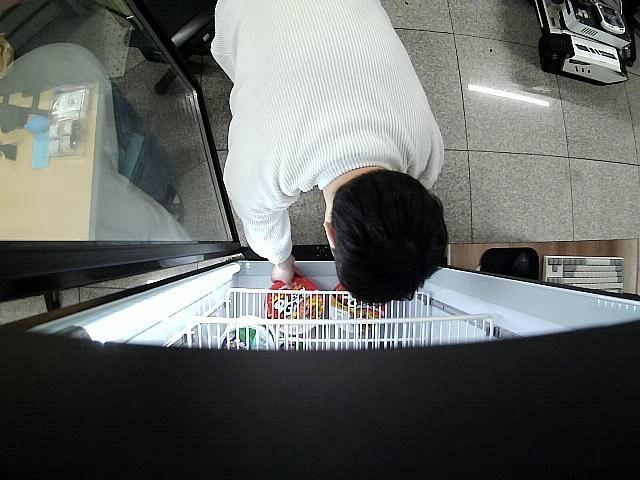10_wangTtukkeong: (266, 278, 324, 334)
